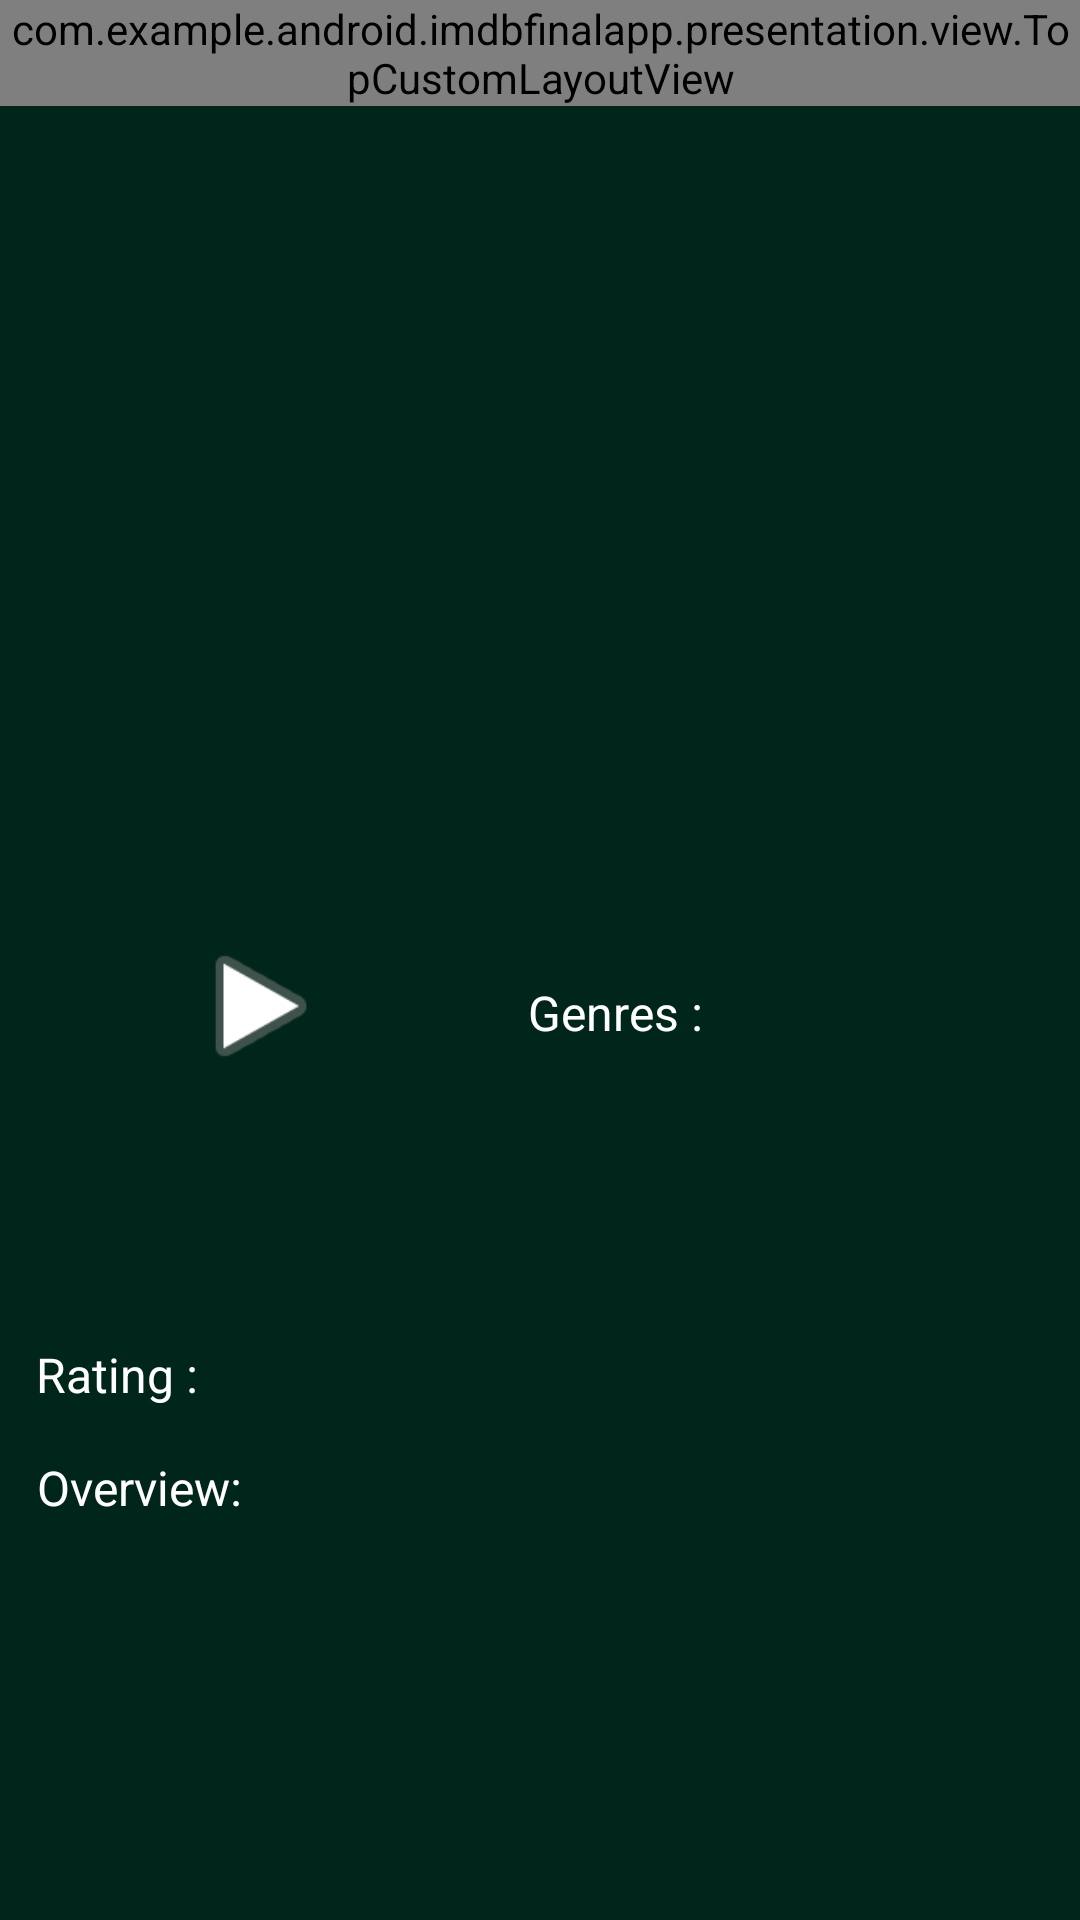

Locate icon controls on the screen. Image size 1080*1920, boxes as (x1, y1, x2, y2).
play: (216, 956, 306, 1056)
